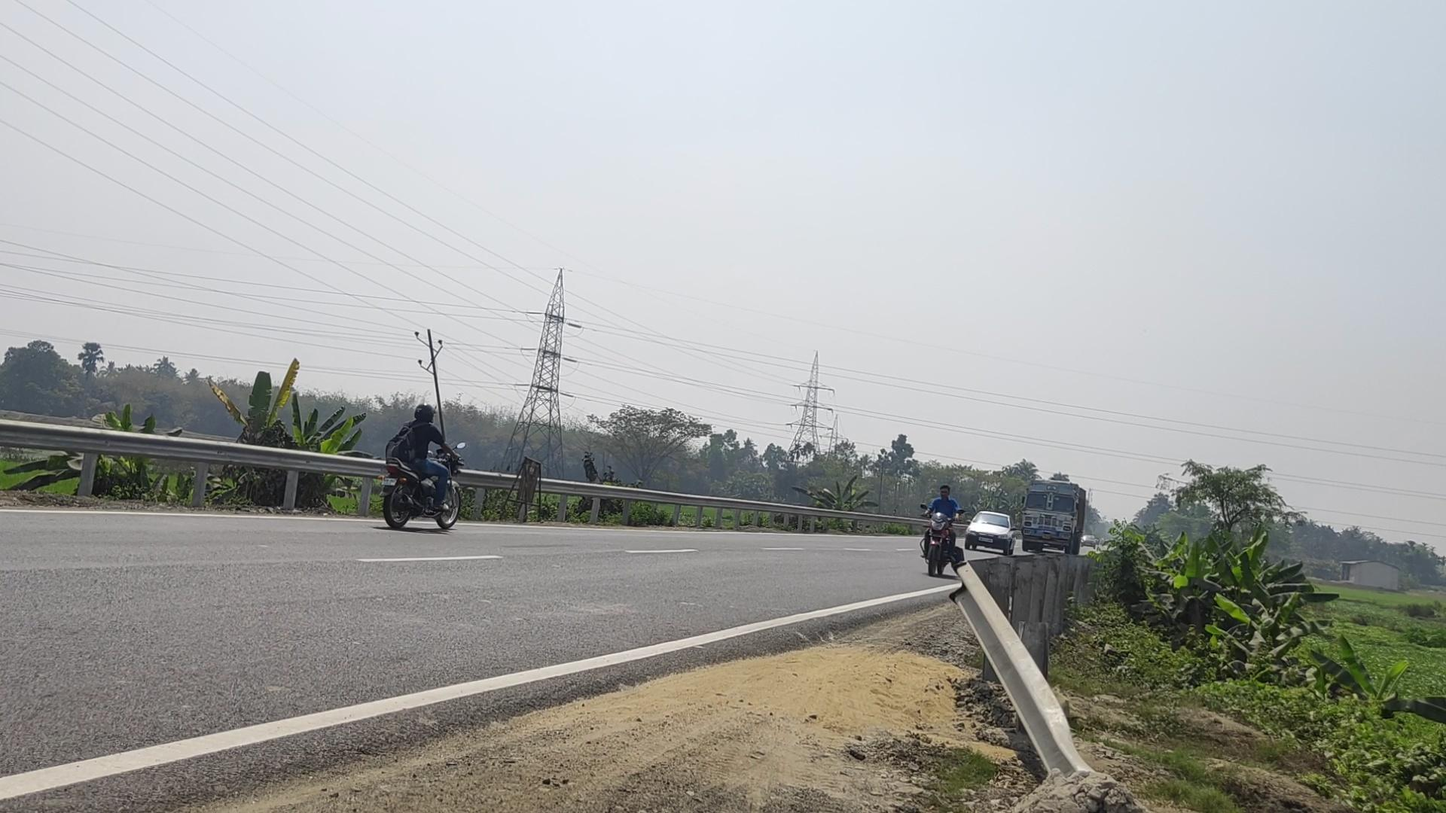bike: (378, 404, 466, 529), (920, 485, 966, 578)
car: (964, 511, 1016, 557)
truck: (1020, 479, 1087, 554)
